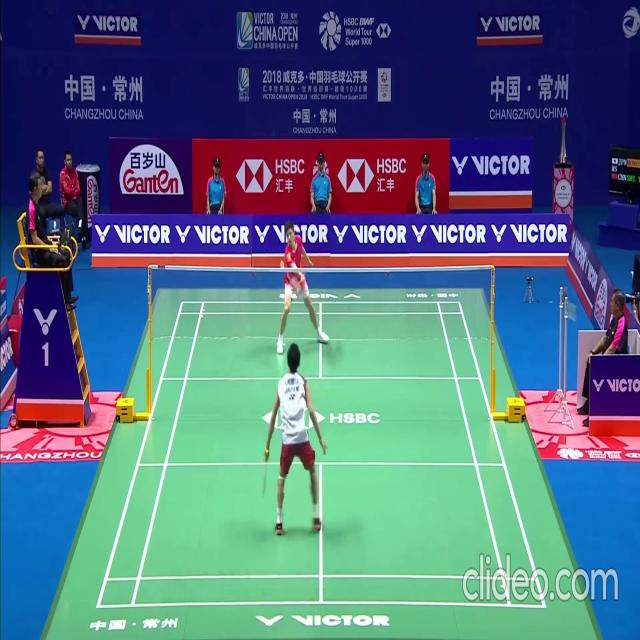Shuttlecock: (280, 261, 284, 268)
